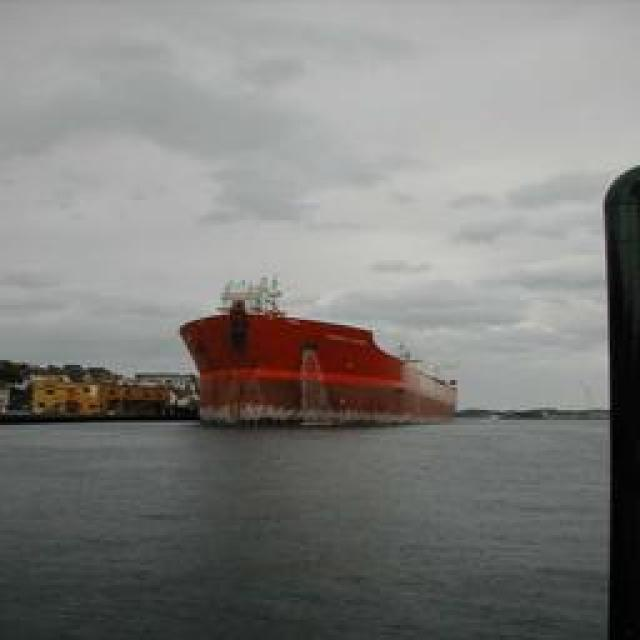CIV_Ship: (178, 282, 458, 426)
